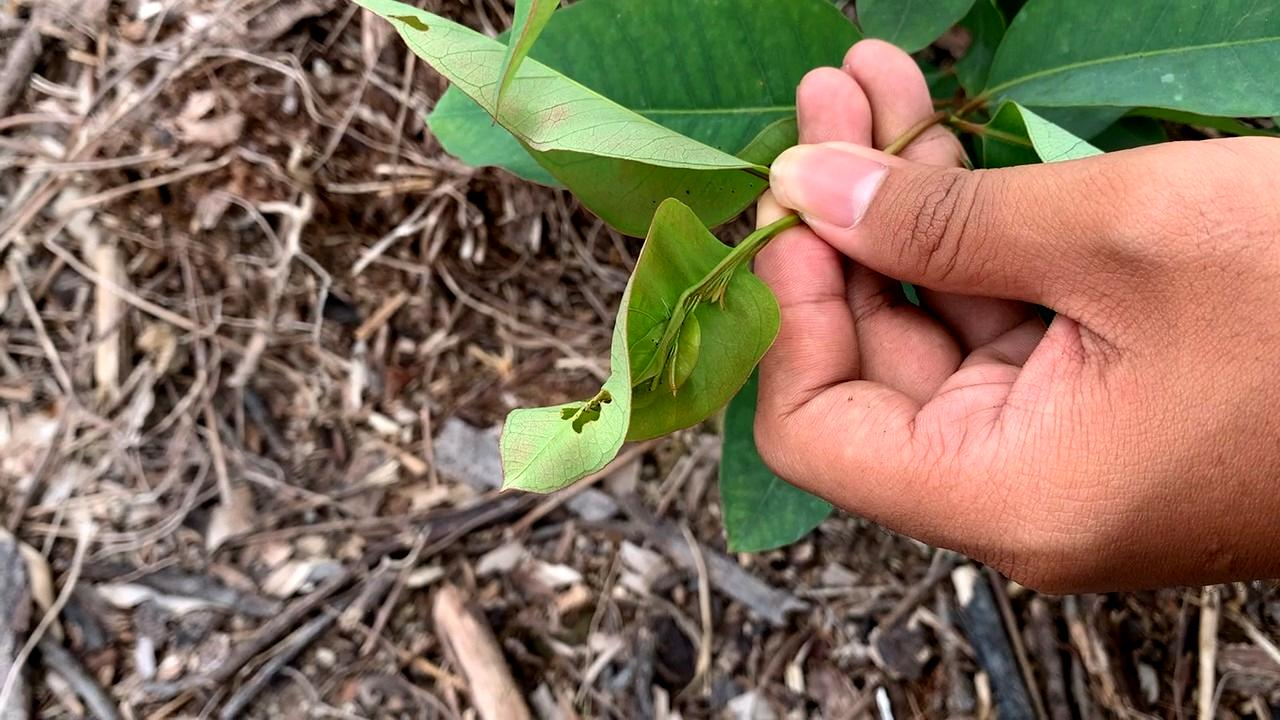Leaf Roller - Leaf: (486, 200, 782, 488)
